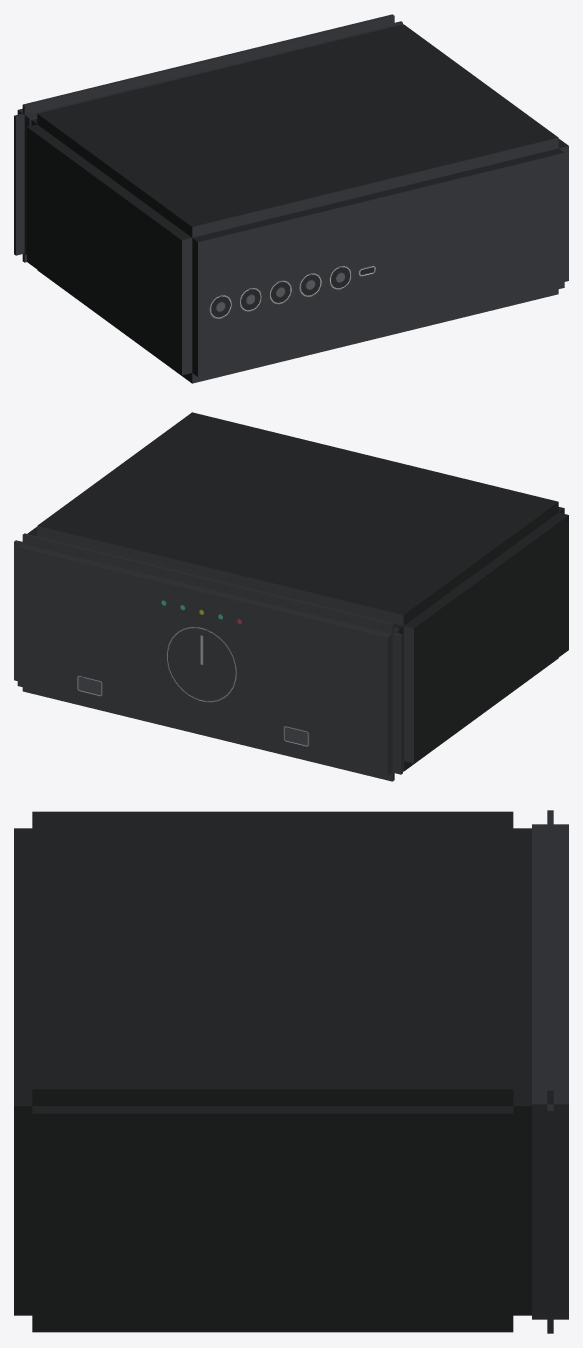
Rendered from apogee-duet-3.glb.
The picture shows the model from 3 angles, top to bottom: view 1: azimuth 30°, elevation 25°; view 2: azimuth 150°, elevation 25°; view 3: azimuth 270°, elevation 25°; orthographic projection. The views are drawn at different scales.
Visible parts, largest first — view 1: apogee-duet-3-body; view 2: apogee-duet-3-body; view 3: apogee-duet-3-body.
Boxes of the visible parts, box(x1,y1,x2,y2) form: apogee-duet-3-body: box(14, 14, 568, 383); apogee-duet-3-body: box(14, 412, 568, 781); apogee-duet-3-body: box(14, 810, 568, 1333).
Size of the model in its own units: 0.225 by 0.09 by 0.18.
Materials: 1 (1 with a texture image).
